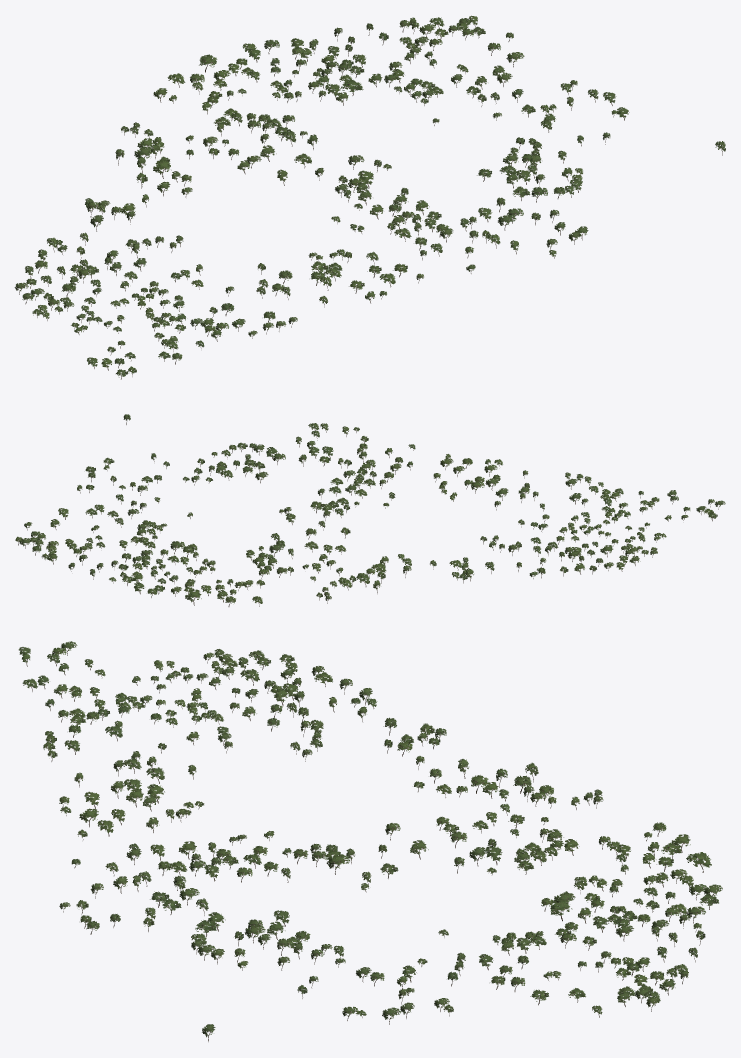
The picture shows the model from 3 angles, top to bottom: view 1: azimuth 30°, elevation 25°; view 2: azimuth 150°, elevation 25°; view 3: azimuth 270°, elevation 25°; orthographic projection. The views are drawn at different scales.
Visible parts, largest first — view 1: tree_small_02 2 0 crown, tree_small_02 0 2 crown, tree_small_02 2 2 crown, tree_small_02 0 1 crown, tree_small_02 2 1 crown, tree_small_02 1 0 crown, tree_small_02 3 0 crown, tree_small_02 1 2 crown, tree_small_02 3 1 crown, tree_small_02 1 1 crown; view 2: tree_small_02 2 0 crown, tree_small_02 0 2 crown, tree_small_02 2 2 crown, tree_small_02 0 1 crown, tree_small_02 2 1 crown, tree_small_02 1 0 crown, tree_small_02 1 2 crown, tree_small_02 3 0 crown, tree_small_02 3 1 crown, tree_small_02 1 1 crown; view 3: tree_small_02 2 0 crown, tree_small_02 0 2 crown, tree_small_02 0 1 crown, tree_small_02 2 2 crown, tree_small_02 2 1 crown, tree_small_02 1 2 crown, tree_small_02 1 0 crown, tree_small_02 3 0 crown, tree_small_02 3 1 crown, tree_small_02 1 1 crown.
Boxes of the visible parts, x1=… form: tree_small_02 2 0 crown: x1=190, y1=23, x2=443, y2=142; tree_small_02 0 2 crown: x1=32, y1=270, x2=273, y2=377; tree_small_02 2 2 crown: x1=391, y1=179, x2=588, y2=271; tree_small_02 0 1 crown: x1=14, y1=198, x2=163, y2=306; tree_small_02 2 1 crown: x1=294, y1=118, x2=572, y2=219; tree_small_02 1 0 crown: x1=115, y1=73, x2=269, y2=174; tree_small_02 3 0 crown: x1=399, y1=15, x2=524, y2=94; tree_small_02 1 2 crown: x1=196, y1=223, x2=426, y2=327; tree_small_02 3 1 crown: x1=477, y1=80, x2=629, y2=174; tree_small_02 1 1 crown: x1=120, y1=145, x2=364, y2=248; tree_small_02 2 0 crown: x1=68, y1=520, x2=285, y2=602; tree_small_02 0 2 crown: x1=530, y1=476, x2=725, y2=554; tree_small_02 2 2 crown: x1=237, y1=423, x2=415, y2=486; tree_small_02 0 1 crown: x1=452, y1=535, x2=640, y2=579; tree_small_02 2 1 crown: x1=187, y1=449, x2=367, y2=540; tree_small_02 1 0 crown: x1=225, y1=548, x2=386, y2=603; tree_small_02 1 2 crown: x1=379, y1=454, x2=583, y2=524; tree_small_02 3 0 crown: x1=15, y1=504, x2=139, y2=561; tree_small_02 3 1 crown: x1=77, y1=452, x2=217, y2=509; tree_small_02 1 1 crown: x1=304, y1=492, x2=498, y2=573; tree_small_02 2 0 crown: x1=469, y1=842, x2=722, y2=958; tree_small_02 0 2 crown: x1=18, y1=641, x2=232, y2=743; tree_small_02 0 1 crown: x1=221, y1=650, x2=446, y2=747; tree_small_02 2 2 crown: x1=59, y1=841, x2=230, y2=955; tree_small_02 2 1 crown: x1=221, y1=840, x2=464, y2=956; tree_small_02 1 2 crown: x1=43, y1=740, x2=232, y2=853; tree_small_02 1 0 crown: x1=471, y1=762, x2=690, y2=853; tree_small_02 3 0 crown: x1=479, y1=951, x2=688, y2=1014; tree_small_02 3 1 crown: x1=237, y1=949, x2=465, y2=1019; tree_small_02 1 1 crown: x1=229, y1=739, x2=468, y2=855.
Size of the model in its own units: 601 by 14 by 459.
2 materials, 2 textured.
